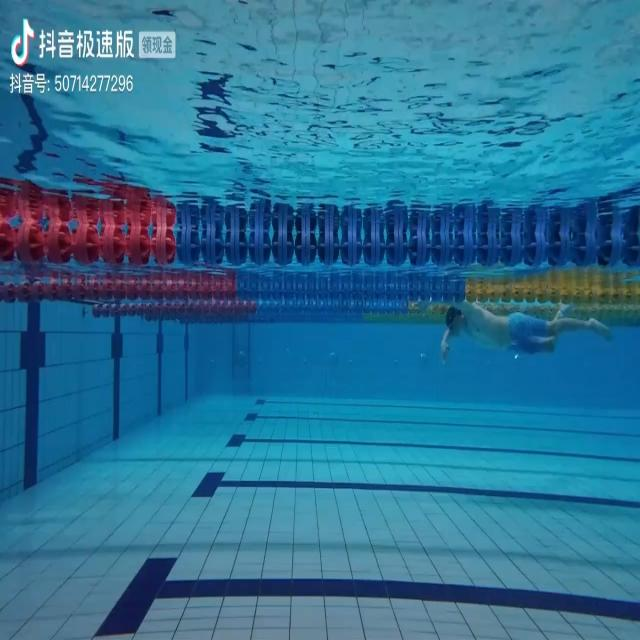Swimming: (443, 302, 613, 361)
